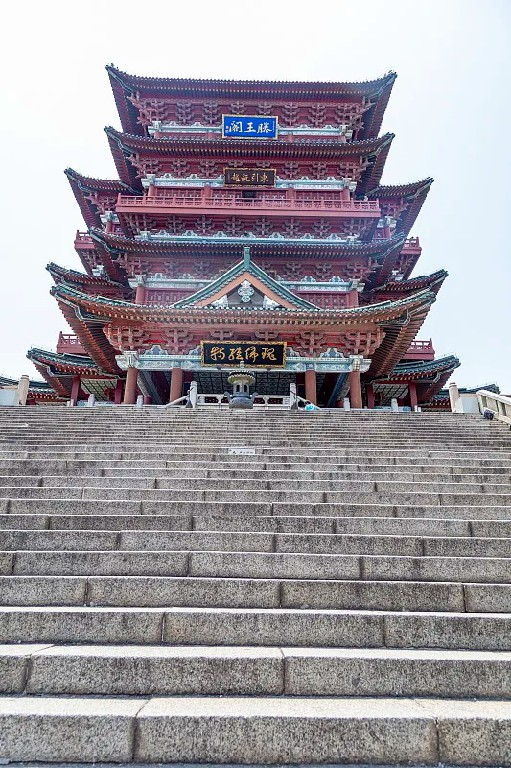Teng: (28, 65, 459, 409)
